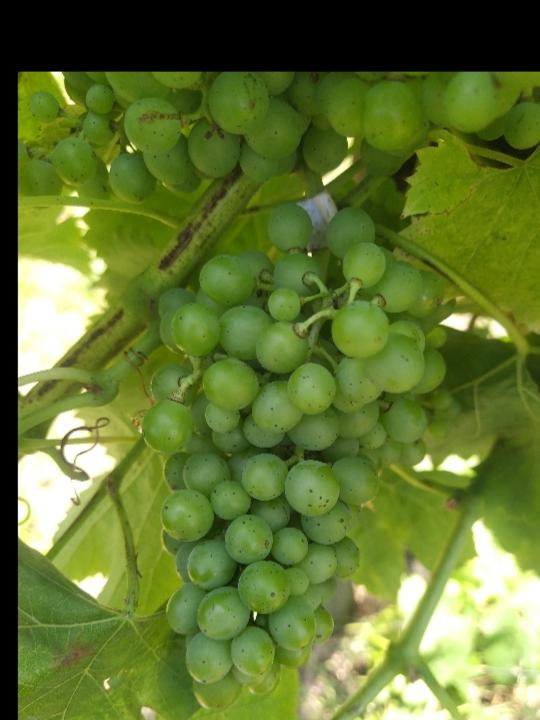grape: (138, 200, 448, 716)
